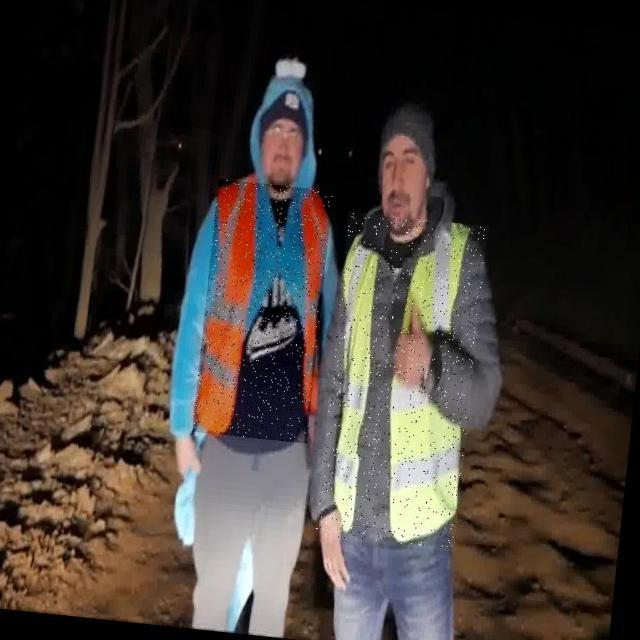Person: (145, 32, 330, 640), (332, 69, 528, 640)
Safety Vest: (314, 212, 488, 553), (192, 179, 333, 444)
bare-arms: (300, 508, 364, 607), (386, 291, 443, 402), (162, 426, 208, 498)
no-helmet: (249, 54, 321, 148), (368, 101, 442, 171)
